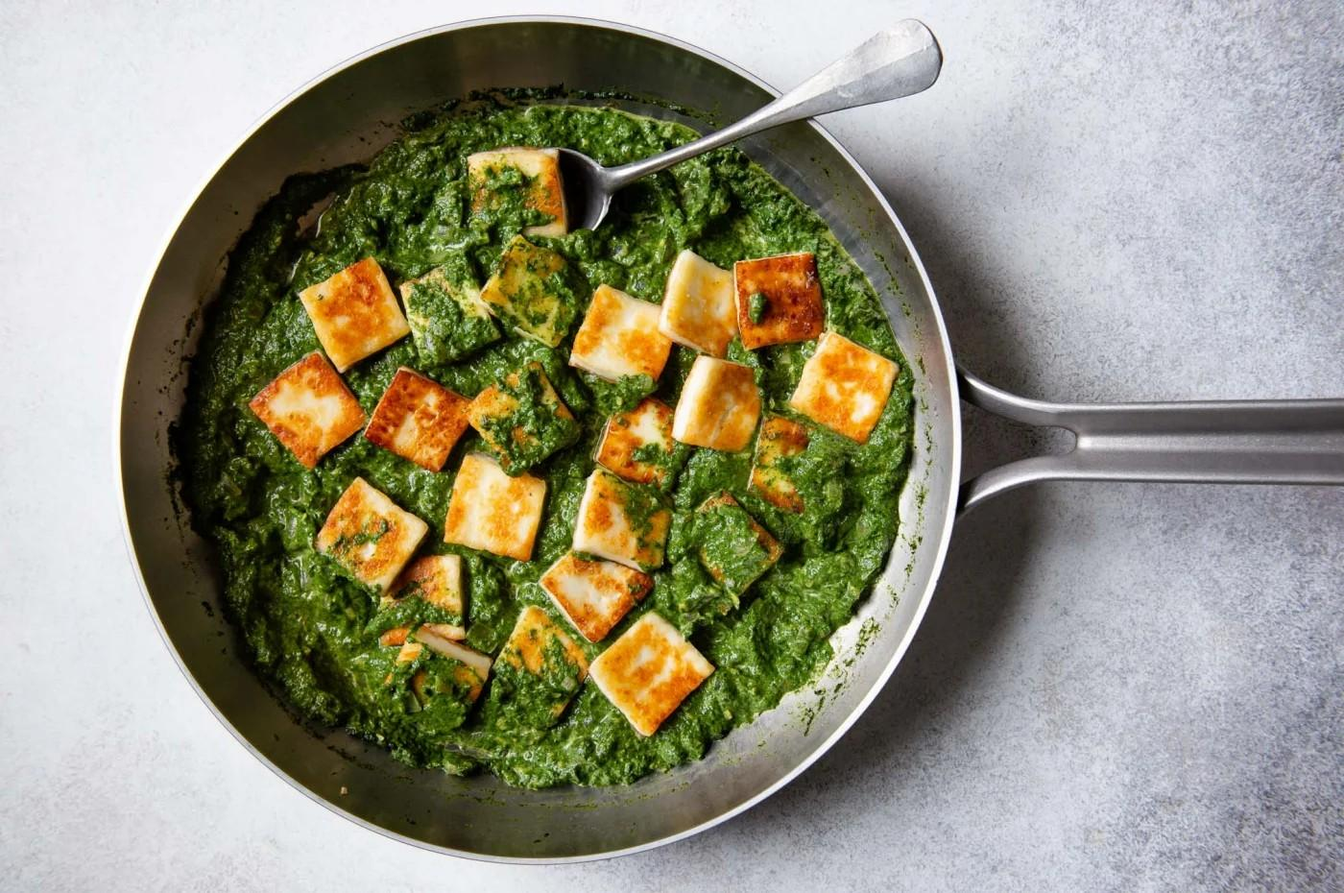PalakPaneer: (170, 99, 913, 798)
